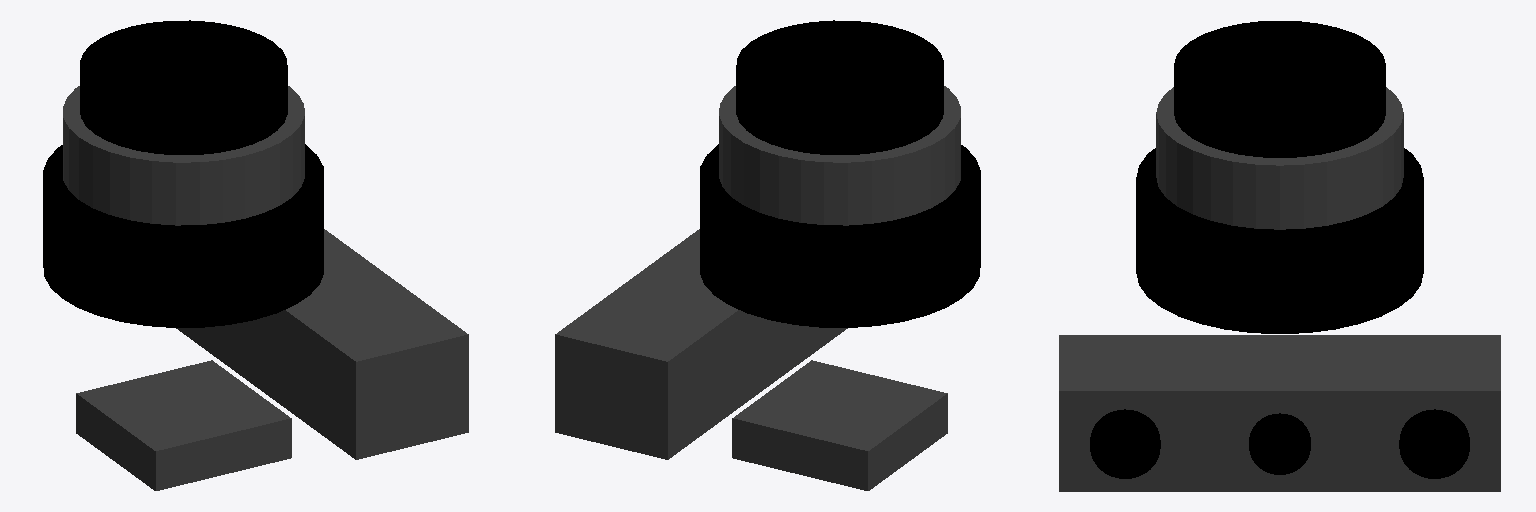
The robot description file, URDF, robot "turtlebot3_burger_cam":
<?xml version="1.0" ?>
<robot name="turtlebot3_burger_cam"
  xmlns:xacro="http://ros.org/wiki/xacro">

  <material name="black">
    <color rgba="0.0 0.0 0.0 1.0"/>
  </material>

  <material name="dark">
    <color rgba="0.3 0.3 0.3 1.0"/>
  </material>

  <material name="light_black">
    <color rgba="0.4 0.4 0.4 1.0"/>
  </material>

  <material name="blue">
    <color rgba="0.0 0.0 0.8 1.0"/>
  </material>

  <material name="green">
    <color rgba="0.0 0.8 0.0 1.0"/>
  </material>

  <material name="grey">
    <color rgba="0.5 0.5 0.5 1.0"/>
  </material>

  <material name="orange">
    <color rgba="1.0 0.4235 0.0392 1.0"/>
  </material>

  <material name="brown">
    <color rgba="0.8706 0.8118 0.7647 1.0"/>
  </material>

  <material name="red">
    <color rgba="0.8 0.0 0.0 1.0"/>
  </material>

  <material name="white">
    <color rgba="1.0 1.0 1.0 1.0"/>
  </material>


  <link name="base_footprint"/>

  <joint name="base_joint" type="fixed">
    <parent link="base_footprint"/>
    <child link="base_link"/>
    <origin xyz="0.0 0.0 0.010" rpy="0 0 0"/>
  </joint>

  <link name="base_link">

    <visual>
      <origin xyz="-0.032 0 0.0" rpy="0 0 0"/>
      <geometry>
        <mesh
          filename="package://turtlebot3_gazebo/models/turtlebot3_common/meshes/bases/burger_base.stl"
          scale="0.001 0.001 0.001"/>
      </geometry>
      <material name="light_black"/>
    </visual>

    <collision>
      <origin xyz="-0.032 0 0.070" rpy="0 0 0"/>
      <geometry>
        <box size="0.140 0.140 0.143"/>
      </geometry>
    </collision>

    <inertial>
      <origin xyz="0 0 0" rpy="0 0 0"/>
      <mass value="8.2573504e-01"/>
      <inertia
        ixx="2.2124416e-03"
        ixy="-1.2294101e-05"
        ixz="3.4938785e-05"
        iyy="2.1193702e-03"
        iyz="-5.0120904e-06"
        izz="2.0064271e-03"/>
    </inertial>

  </link>


  <joint name="wheel_left_joint" type="continuous">
    <parent link="base_link"/>
    <child link="wheel_left_link"/>
    <origin xyz="0.0 0.08 0.023" rpy="-1.57 0 0"/>
    <axis xyz="0 0 1"/>
  </joint>

  <link name="wheel_left_link">

    <visual>
      <origin xyz="0 0 0" rpy="1.57 0 0"/>
      <geometry>
        <mesh
          filename="package://turtlebot3_gazebo/models/turtlebot3_common/meshes/wheels/left_tire.stl"
          scale="0.001 0.001 0.001"/>
      </geometry>
      <material name="dark"/>
    </visual>

    <collision>
      <origin xyz="0 0 0" rpy="0 0 0"/>
      <geometry>
        <cylinder length="0.018" radius="0.033"/>
      </geometry>
    </collision>

    <inertial>
      <origin xyz="0 0 0"/>
      <mass value="2.8498940e-02"/>
      <inertia
        ixx="1.1175580e-05"
        ixy="-4.2369783e-11"
        ixz="-5.9381719e-09"
        iyy="1.1192413e-05"
        iyz="-1.4400107e-11"
        izz="2.0712558e-05"/>
    </inertial>

  </link>


  <joint name="wheel_right_joint" type="continuous">
    <parent link="base_link"/>
    <child link="wheel_right_link"/>
    <origin xyz="0.0 -0.080 0.023" rpy="-1.57 0 0"/>
    <axis xyz="0 0 1"/>
  </joint>

  <link name="wheel_right_link">

    <visual>
      <origin xyz="0 0 0" rpy="1.57 0 0"/>
      <geometry>
        <mesh
          filename="package://turtlebot3_gazebo/models/turtlebot3_common/meshes/wheels/right_tire.stl"
          scale="0.001 0.001 0.001"/>
      </geometry>
      <material name="dark"/>
    </visual>

    <collision>
      <origin xyz="0 0 0" rpy="0 0 0"/>
      <geometry>
        <cylinder length="0.018" radius="0.033"/>
      </geometry>
    </collision>

    <inertial>
      <origin xyz="0 0 0"/>
      <mass value="2.8498940e-02"/>
      <inertia
        ixx="1.1175580e-05"
        ixy="-4.2369783e-11"
        ixz="-5.9381719e-09"
        iyy="1.1192413e-05"
        iyz="-1.4400107e-11"
        izz="2.0712558e-05"/>
    </inertial>

  </link>


  <joint name="caster_back_joint" type="fixed">
    <parent link="base_link"/>
    <child link="caster_back_link"/>
    <origin xyz="-0.081 0 -0.004" rpy="-1.57 0 0"/>
  </joint>

  <link name="caster_back_link">

    <collision>
      <origin xyz="0 0.001 0" rpy="0 0 0"/>
      <geometry>
        <box size="0.030 0.009 0.020"/>
      </geometry>
    </collision>

    <inertial>
      <origin xyz="0 0 0"/>
      <mass value="0.005"/>
      <inertia
        ixx="0.001"
        ixy="0.0"
        ixz="0.0"
        iyy="0.001"
        iyz="0.0"
        izz="0.001"/>
    </inertial>

  </link>


    <joint name="3dm_imu_joint" type="fixed">
    <parent link="base_link"/>
    <child link="imu_link"/>
    <origin xyz="-0.032 0 0.1" rpy="0 0 0"/>
  </joint>

  <link name="imu_link">

    <visual>
      <origin xyz="0 0 0" rpy="0 0 0"/>
      <geometry>
        <box size="0.0362 0.0366 0.0102"/>
      </geometry>
      <material name="dark"/>
    </visual>

    <collision>
      <origin xyz="0 0 0" rpy="0 0 0"/>
      <geometry>
        <box size="0.0362 0.0366 0.0102"/>
      </geometry>
    </collision>

    <inertial>
      <origin xyz="0 0 0" rpy="0 0 0"/>
      <mass value="0.0177"/>
      <inertia
        ixx="0.00000214"
        ixy="0"
        ixz="0"
        iyy="0.00000213"
        iyz="0"
        izz="0.00000392"/>
    </inertial>

  </link>


  <joint name="livox_joint" type="fixed">
    <parent link="base_link"/>
    <child link="base_scan"/>
    <origin xyz="-0.032 0 0.14" rpy="0 0 0"/>
  </joint>

  <link name="base_scan">

    <visual>
      <origin xyz="0 0 0.012" rpy="0 0 0"/>
      <geometry>
        <cylinder radius="0.0325" length="0.024"/>
      </geometry>
      <material name="black"/>
    </visual>

    <visual>
      <origin xyz="0 0 0.032" rpy="0 0 0"/>
      <geometry>
        <cylinder radius="0.028" length="0.016"/>
      </geometry>
      <material name="dark"/>
    </visual>

    <visual>
      <origin xyz="0 0 0.046" rpy="0 0 0"/>
      <geometry>
        <cylinder radius="0.024" length="0.012"/>
      </geometry>
      <material name="black"/>
    </visual>

    <collision>
      <origin xyz="0 0 0.030" rpy="0 0 0"/>
      <geometry>
        <cylinder radius="0.0325" length="0.060"/>
      </geometry>
    </collision>

    <inertial>
      <origin xyz="0 0 0.030" rpy="0 0 0"/>
      <mass value="0.265"/>
      <inertia
        ixx="0.0001"
        ixy="0"
        ixz="0"
        iyy="0.0001"
        iyz="0"
        izz="0.0001"/>
    </inertial>

  </link>


  <joint name="oakd_joint" type="fixed">
    <parent link="base_link"/>
    <child link="camera_link"/>
    <origin xyz="0 0 0.12" rpy="0 0 1.5708"/>
  </joint>

  <link name="camera_link">

    <visual>
      <origin xyz="0 0 0" rpy="0 0 0"/>
      <geometry>
        <box size="0.100 0.030 0.025"/>
      </geometry>
      <material name="dark"/>
    </visual>

    <visual>
      <origin xyz="0.035 -0.016 0" rpy="1.5708 0 0"/>
      <geometry>
        <cylinder radius="0.008" length="0.004"/>
      </geometry>
      <material name="black"/>
    </visual>

    <visual>
      <origin xyz="0 -0.016 0" rpy="1.5708 0 0"/>
      <geometry>
        <cylinder radius="0.007" length="0.004"/>
      </geometry>
      <material name="black"/>
    </visual>

    <visual>
      <origin xyz="-0.035 -0.016 0" rpy="1.5708 0 0"/>
      <geometry>
        <cylinder radius="0.008" length="0.004"/>
      </geometry>
      <material name="black"/>
    </visual>

    <collision>
      <origin xyz="0 0 0" rpy="0 0 0"/>
      <geometry>
        <box size="0.030 0.098 0.025"/>
      </geometry>
    </collision>

  </link>


  <joint name="oakd_rgb_joint" type="fixed">
    <parent link="camera_link"/>
    <child link="oakd_rgb_frame"/>
    <origin xyz="0 0 0" rpy="0 0 -1.5708"/>
  </joint>

  <link name="oakd_rgb_frame"/>


  <joint name="oakd_rgb_optical_joint" type="fixed">
    <parent link="oakd_rgb_frame"/>
    <child link="oakd_rgb_optical_frame"/>
    <origin xyz="0 0 0" rpy="0 0 0"/>
  </joint>

  <link name="oakd_rgb_optical_frame"/>


  <joint name="oakd_depth_joint" type="fixed">
    <parent link="camera_link"/>
    <child link="oakd_depth_frame"/>
    <origin xyz="0 0 0" rpy="0 0 -1.5708"/>
  </joint>

  <link name="oakd_depth_frame"/>


  <joint name="oakd_depth_optical_joint" type="fixed">
    <parent link="oakd_depth_frame"/>
    <child link="oakd_depth_optical_frame"/>
    <origin xyz="0 0 0" rpy="0 0 0"/>
  </joint>

  <link name="oakd_depth_optical_frame"/>

</robot>

--- Facts derived from the render (not from the file) ---
The picture shows the robot from 3 angles, left to right: view 1: azimuth 30°, elevation 25°; view 2: azimuth 150°, elevation 25°; view 3: azimuth 270°, elevation 25°; orthographic projection.
Model turtlebot3_burger_cam with 12 links and 11 joints (2 continuous, 9 fixed), rooted at base_footprint, posed every joint at zero.
Visible links, largest first — view 1: base_scan, camera_link, imu_link; view 2: base_scan, camera_link, imu_link; view 3: base_scan, camera_link.
Link boxes in pixels (box(x1,y1,x2,y2)): base_scan: box(43, 20, 323, 327); camera_link: box(176, 229, 468, 459); imu_link: box(76, 360, 291, 490); base_scan: box(700, 20, 980, 327); camera_link: box(555, 229, 847, 459); imu_link: box(732, 360, 947, 490); base_scan: box(1136, 21, 1423, 333); camera_link: box(1059, 335, 1500, 491).
Size in the robot's own frame: 0.0825 by 0.1 by 0.0971 metres.
0 mesh visuals loaded from 3 distinct referenced files (none loaded); not drawn: 3 (reference not matched to a file when rendering).
